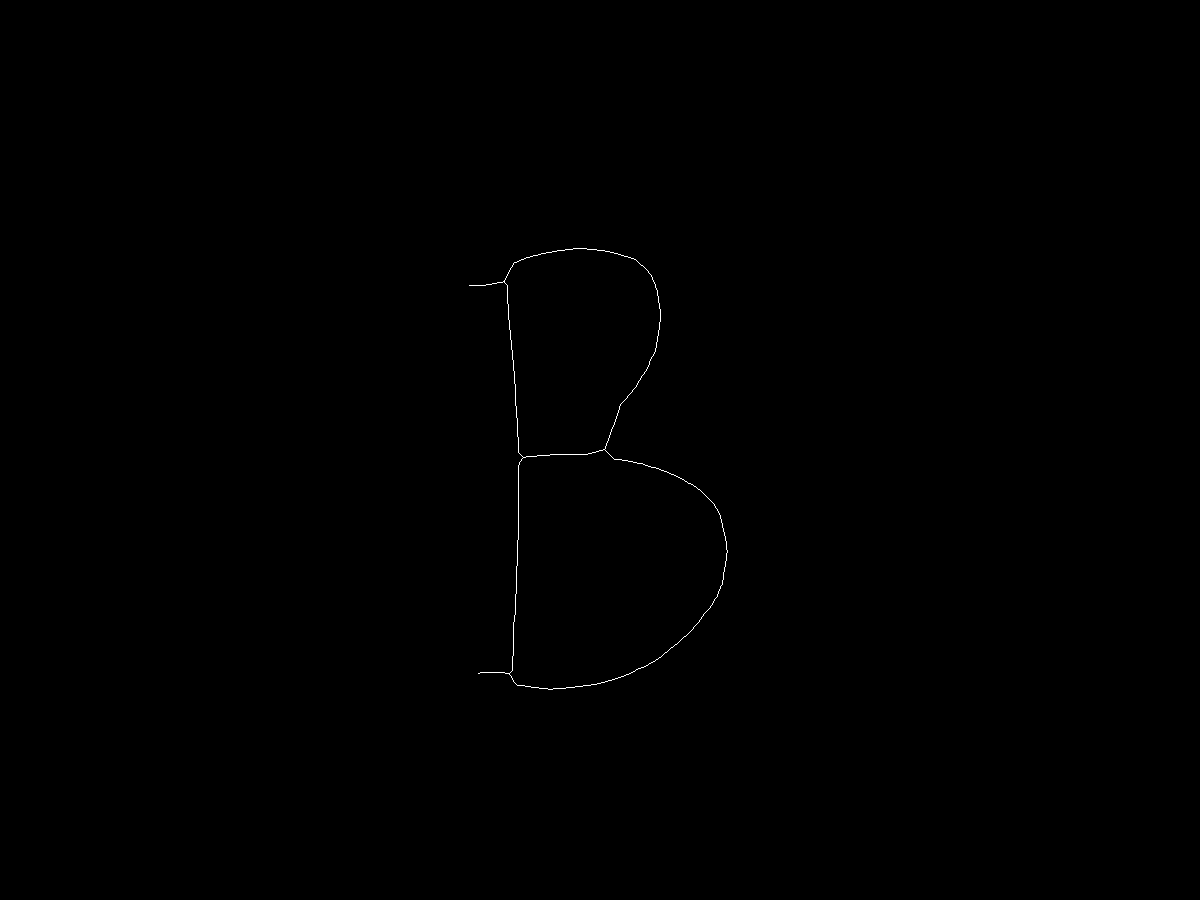dian1: (500, 258, 517, 275)
dian2: (518, 451, 535, 468)
dian3: (506, 665, 524, 683)
dian4: (599, 445, 611, 457)
